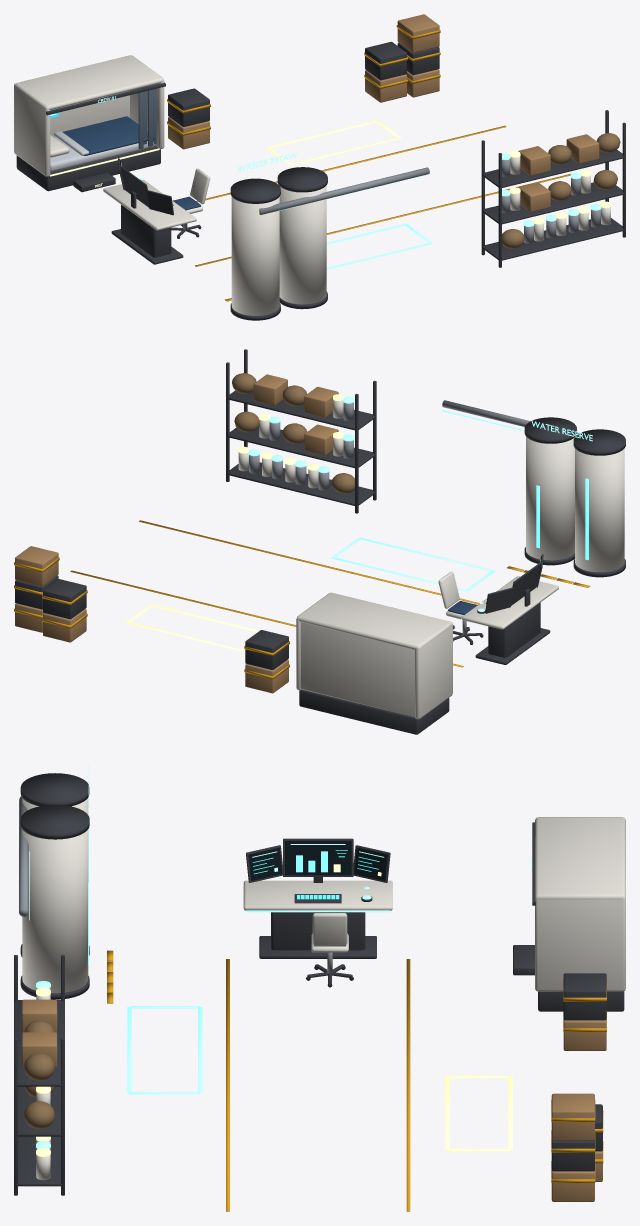
File: ResourcesDecor.fbx
The picture shows the model from 3 angles, top to bottom: view 1: azimuth 30°, elevation 25°; view 2: azimuth 150°, elevation 25°; view 3: azimuth 270°, elevation 25°; orthographic projection. The views are drawn at different scales.
Visible parts, largest first — view 1: ResourcesDecor mesh; view 2: ResourcesDecor mesh; view 3: ResourcesDecor mesh.
Part boxes in pixels (x1,y1,x2,y2): ResourcesDecor mesh: (14, 14, 625, 320); ResourcesDecor mesh: (14, 349, 625, 734); ResourcesDecor mesh: (14, 763, 625, 1211).
Size of the model in its own units: 8.35 by 2.68 by 7.79.
